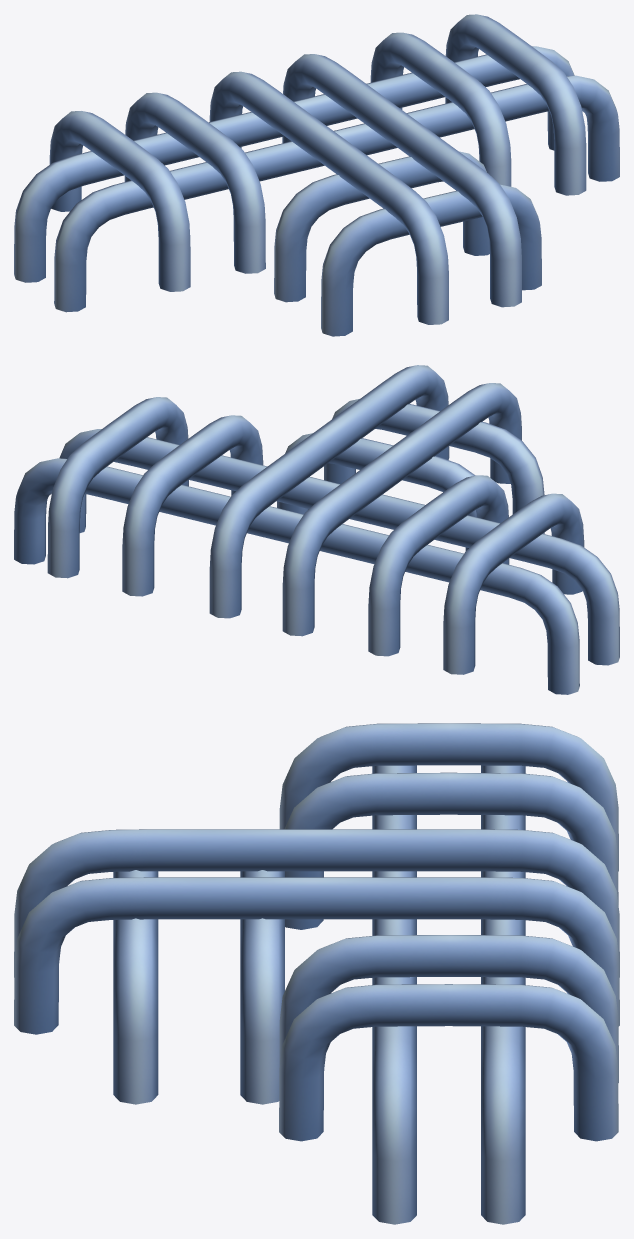
The model's file is Lock_T.fbx.
The picture shows the model from 3 angles, top to bottom: view 1: azimuth 30°, elevation 25°; view 2: azimuth 150°, elevation 25°; view 3: azimuth 270°, elevation 25°; orthographic projection. The views are drawn at different scales.
Visible parts, largest first — view 1: Lock_T; view 2: Lock_T; view 3: Lock_T.
Part boxes in pixels (<box>): Lock_T: <box>14,14,619,336</box>; Lock_T: <box>14,365,619,694</box>; Lock_T: <box>14,723,619,1224</box>.
Size of the model in its own units: 3.34 by 0.7782 by 2.3.
